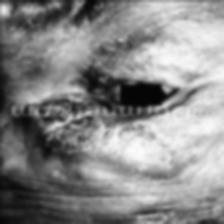Potentially Malignant Skin Tumors: (38, 100, 180, 162)
